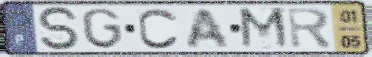A: (185, 8, 232, 50)
C: (136, 6, 182, 50)
G: (80, 7, 126, 51)
M: (236, 5, 293, 51)
R: (285, 6, 335, 50)
S: (35, 5, 84, 53)
